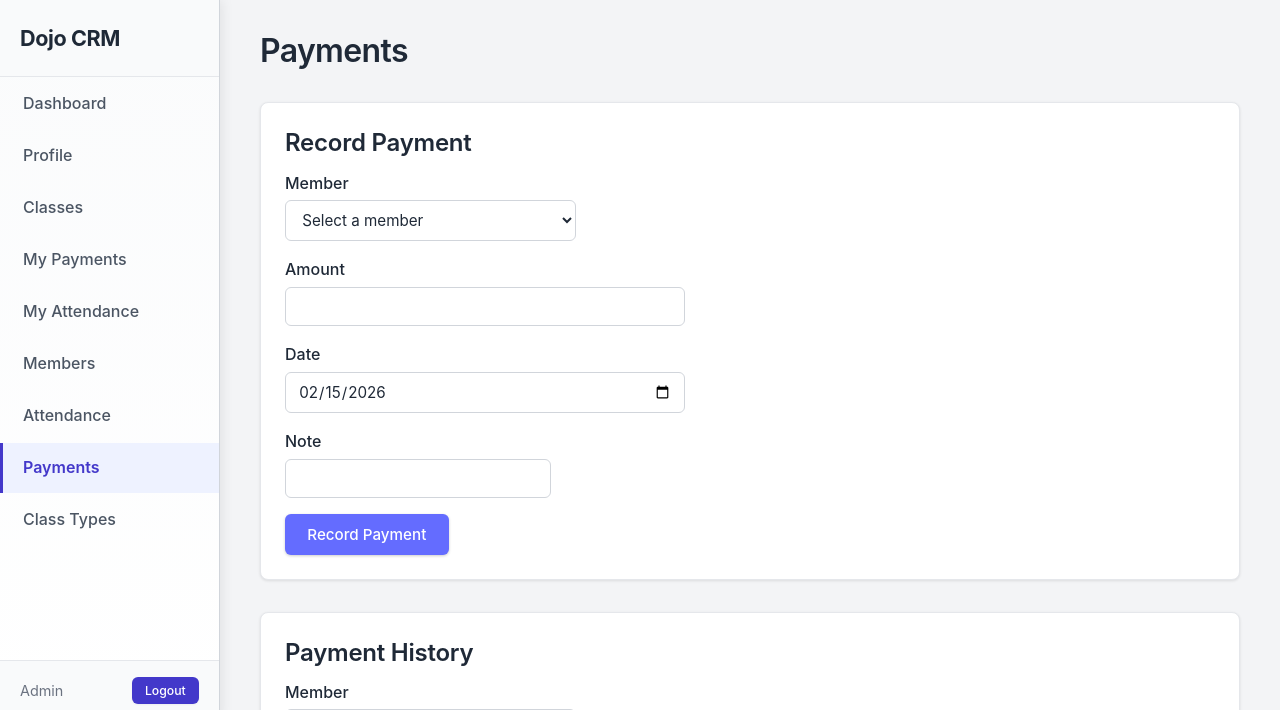
it: Payments › records a payment
This screenshot has width=1280, height=710.
expect the element "Record Payment" is shown: met, box x1=260 y1=102 x2=1240 y2=580
Select "Bob User (bob@example.com)" in the 1st dropdown labelled "Member": (431, 221) x1=285 y1=200 x2=576 y2=241
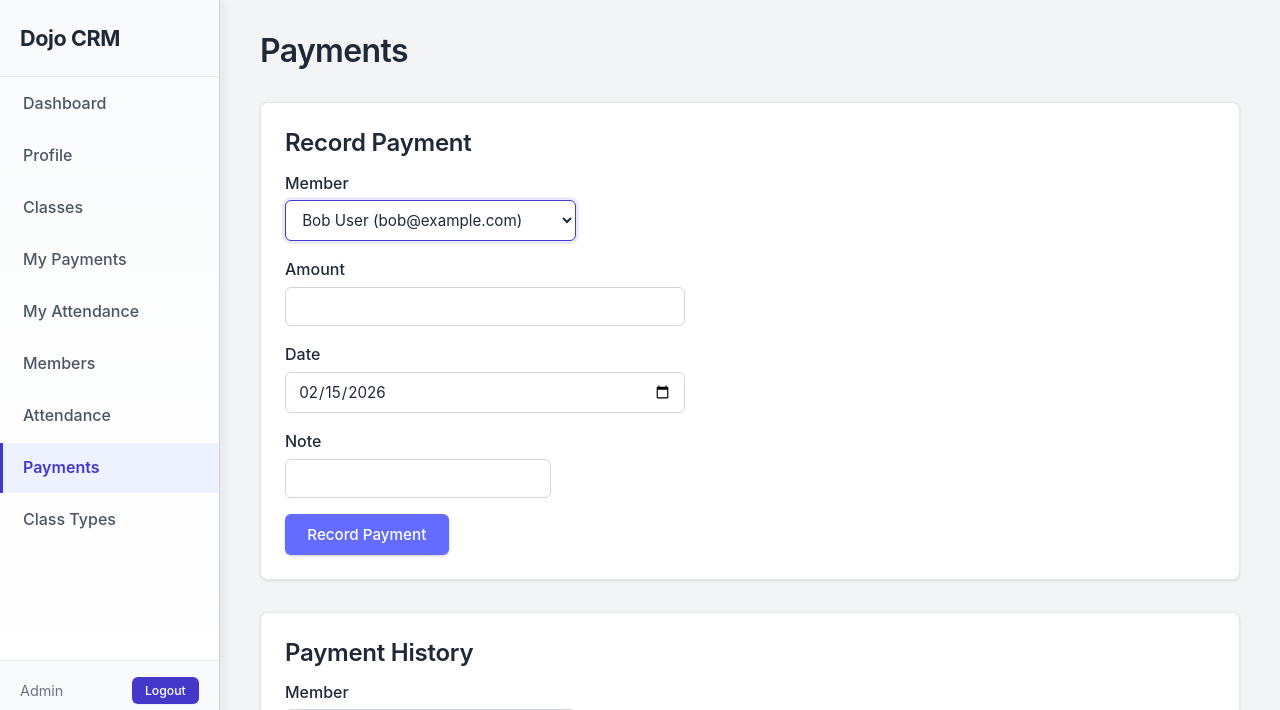
In the number field labelled "Amount": (485, 307) x1=285 y1=287 x2=685 y2=326, type "50"
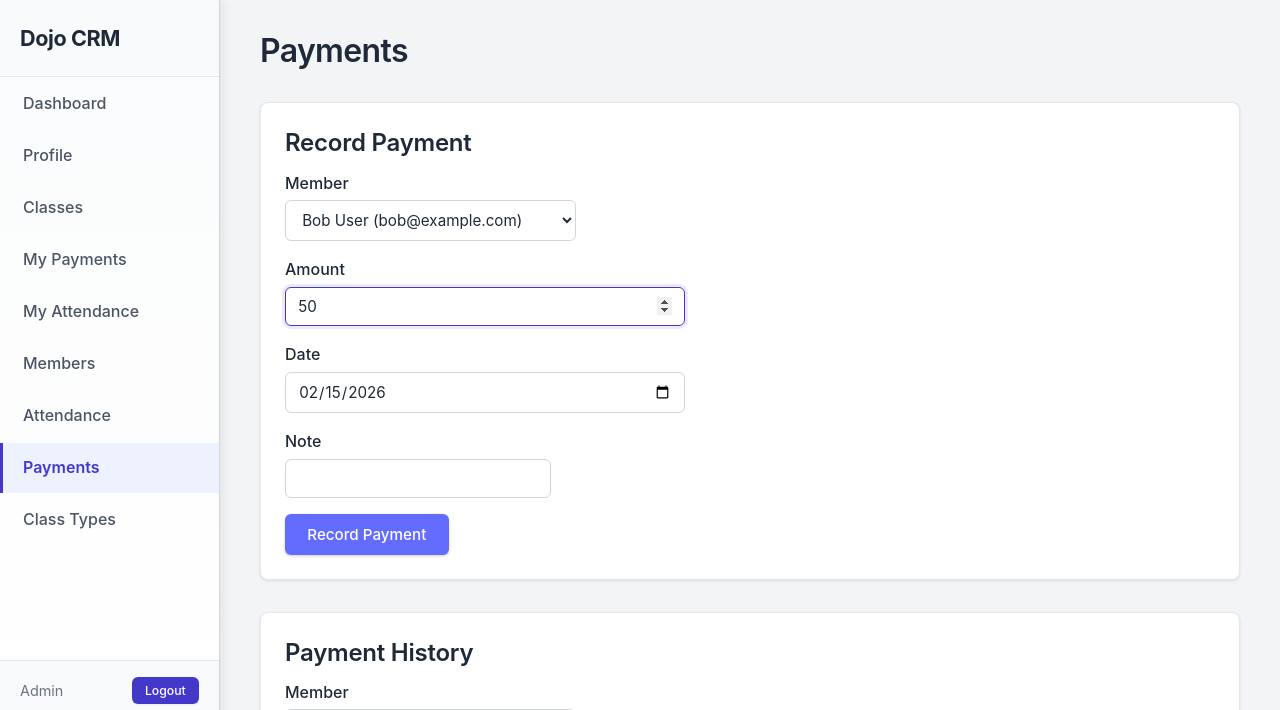
In the field labelled "Note": (418, 478) x1=285 y1=459 x2=551 y2=498, type "Monthly fee"
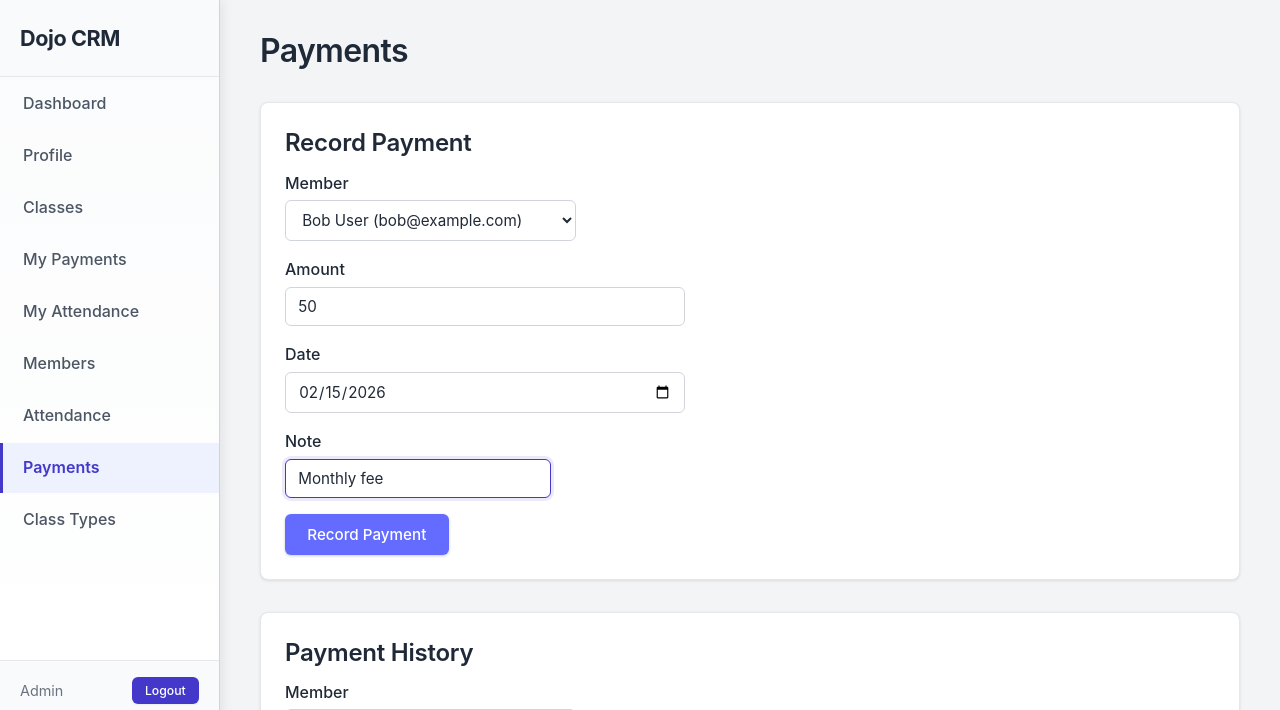
Click the button "Record Payment": (367, 534) x1=285 y1=514 x2=449 y2=555
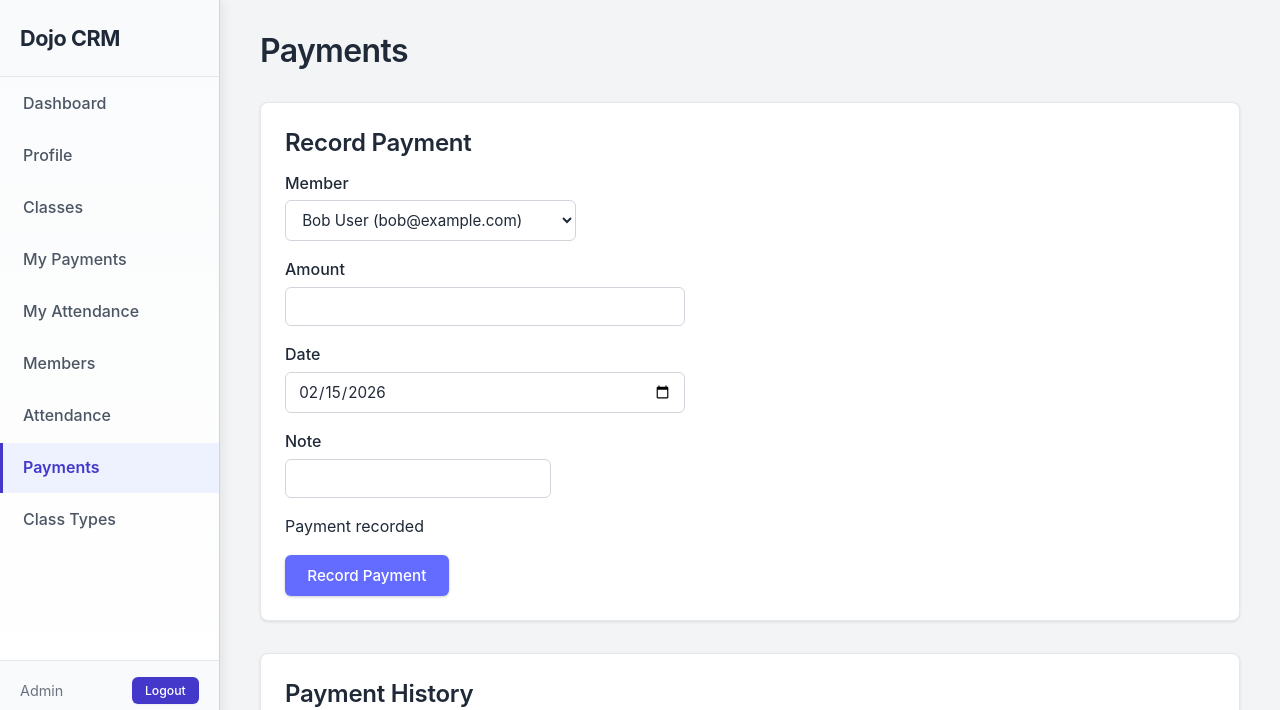
expect the text "Payment recorded" is shown: met, box x1=285 y1=516 x2=424 y2=536
